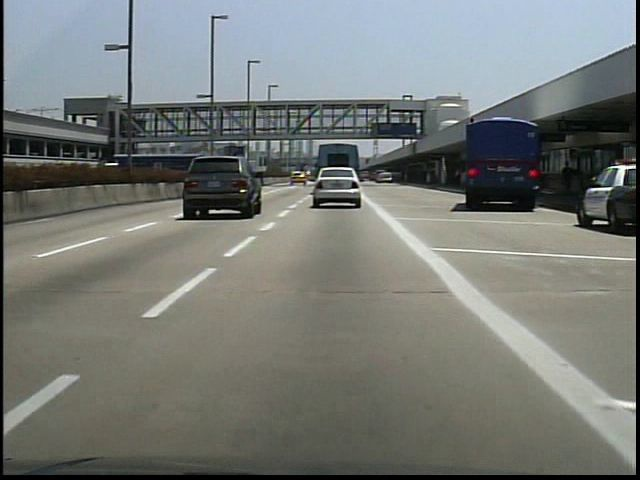person: (559, 156, 579, 205)
